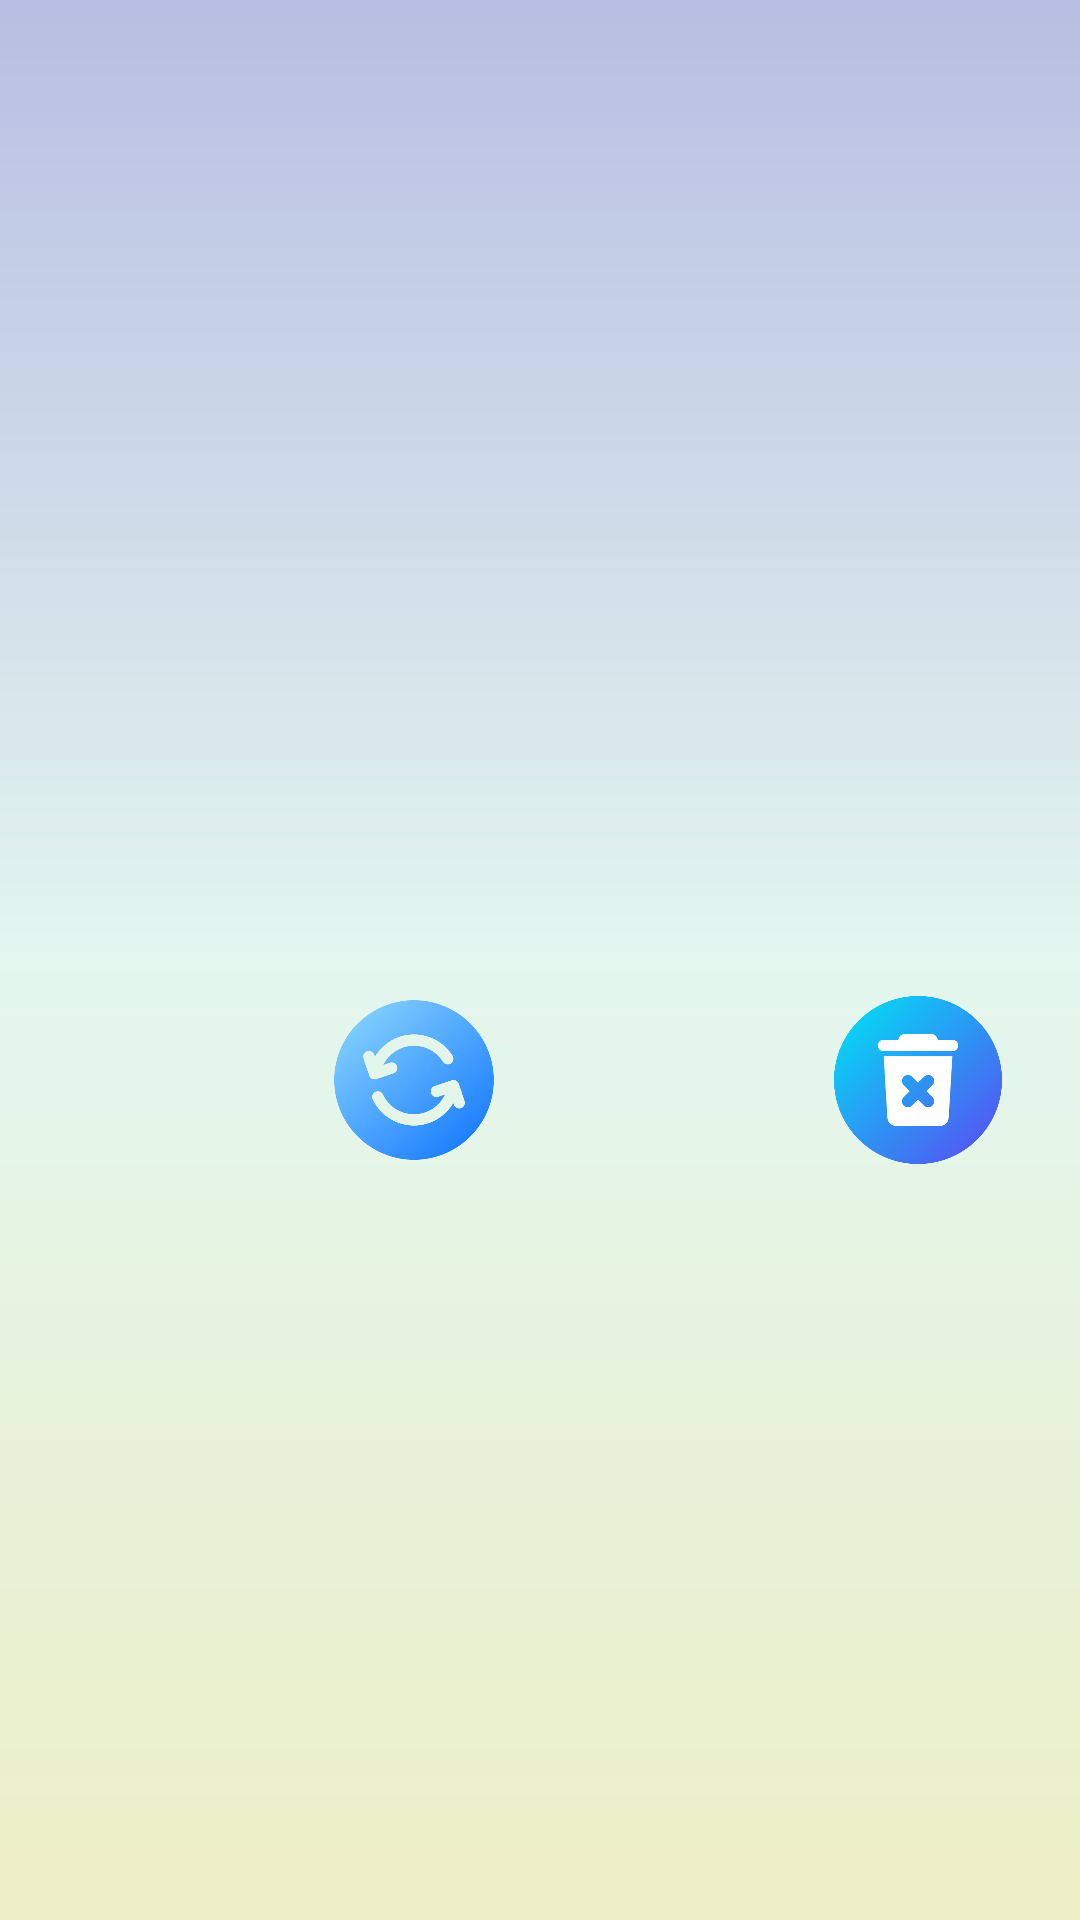

Screen size 1080*1920. Icon name, then its box in pixels as {"left": x1, "top": y1, "right": x2, "bottom": y2}:
Видалити: {"left": 834, "top": 996, "right": 1002, "bottom": 1164}
Оновити: {"left": 334, "top": 1000, "right": 494, "bottom": 1160}
